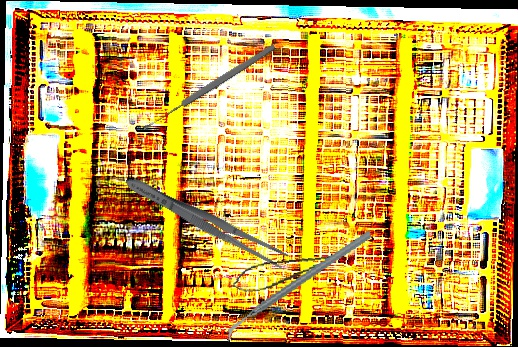Chopper: (212, 229, 386, 343)
Dressing Forceps: (121, 171, 291, 272)
Micro Scissor: (230, 250, 344, 296)
Surgical Spoon: (141, 42, 277, 133)
